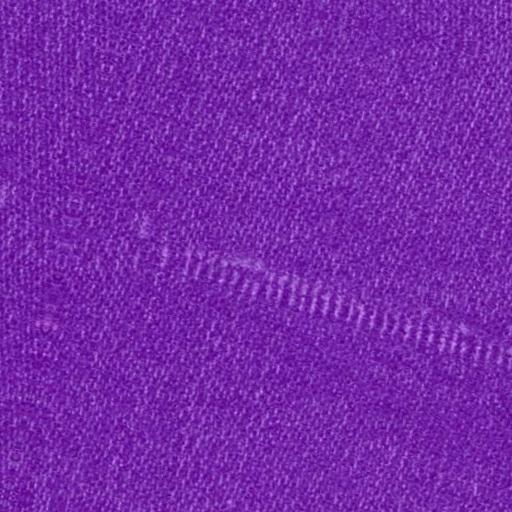slub: (162, 244, 511, 385)
